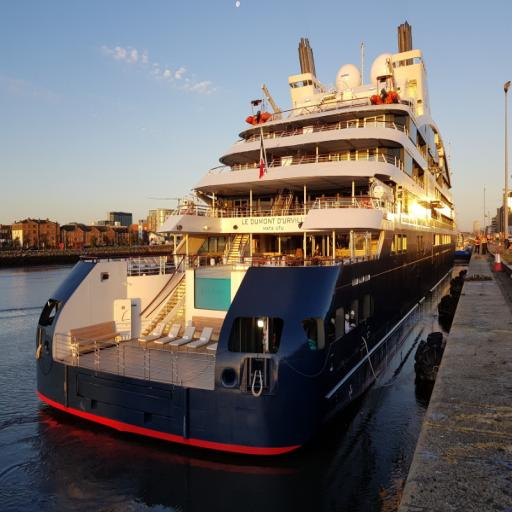cruises: (31, 21, 461, 477)
